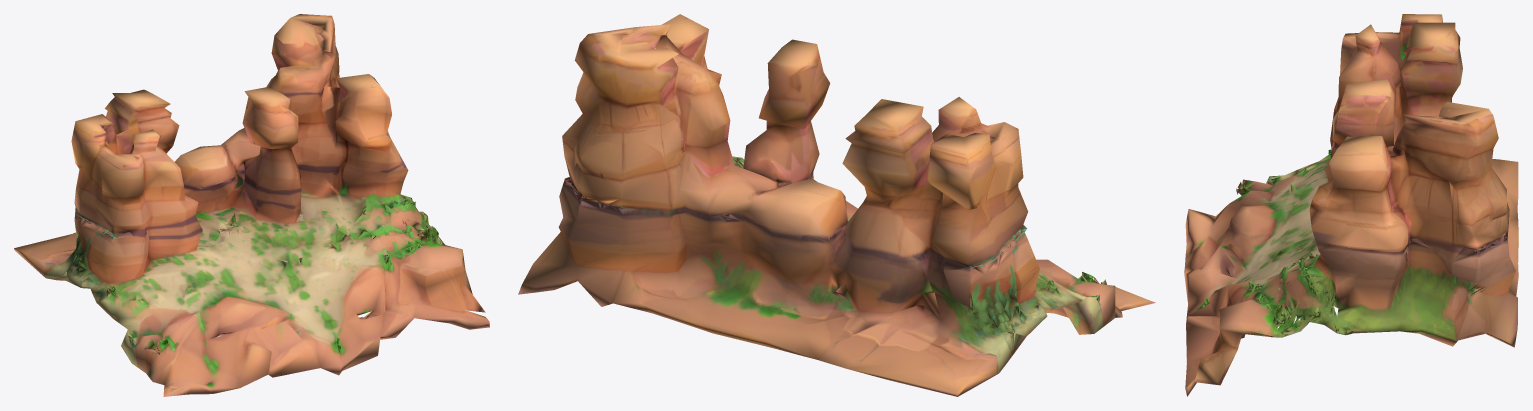
File: canion4.glb
3 views of the same model, side by side, from view 1: azimuth 30°, elevation 25°; view 2: azimuth 150°, elevation 25°; view 3: azimuth 270°, elevation 25° (orthographic). The views are drawn at different scales.
Bounding box in the file's own units: 2.01 × 1.39 × 1.59.
1 material, 1 textured.
